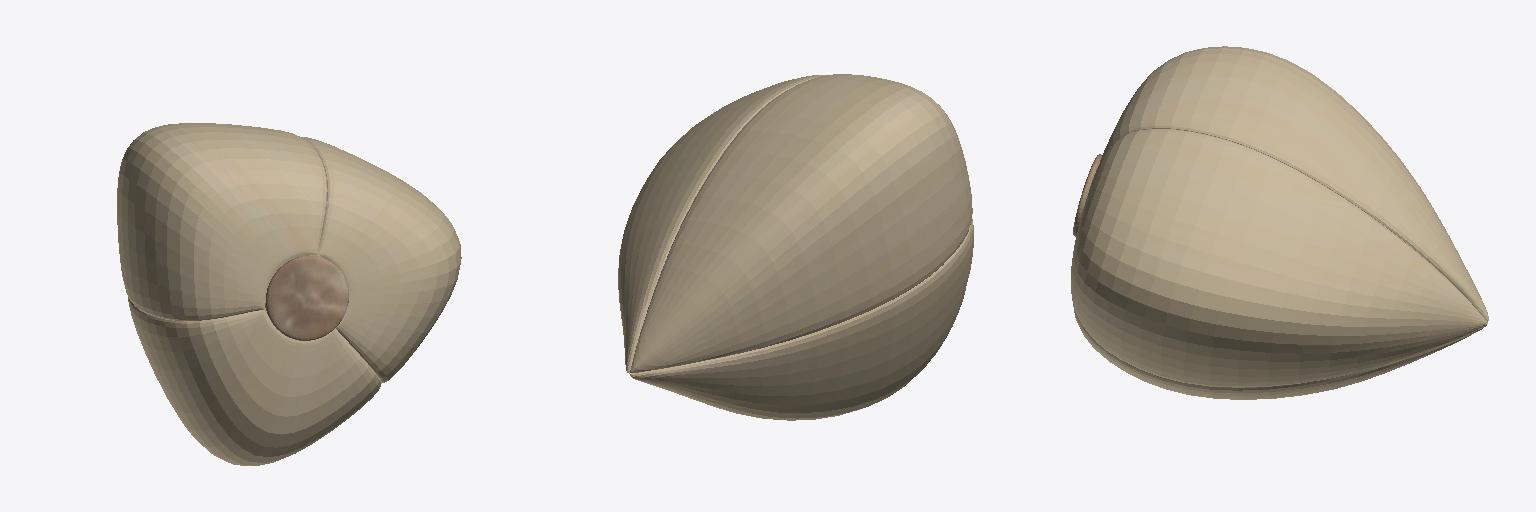
3 renders of one model, left to right at view 1: azimuth 30°, elevation 25°; view 2: azimuth 150°, elevation 25°; view 3: azimuth 270°, elevation 25°, orthographic.
Parts seen in each view (by area): view 1: GrainBuckwheat027; view 2: GrainBuckwheat027; view 3: GrainBuckwheat027.
Part boxes in pixels (bbox=[...]): GrainBuckwheat027: bbox=[117, 123, 461, 465]; GrainBuckwheat027: bbox=[618, 74, 973, 420]; GrainBuckwheat027: bbox=[1071, 46, 1488, 399].
Size of the model in its own units: 0.0254 by 0.0263 by 0.0313.
1 materials, 1 textured.